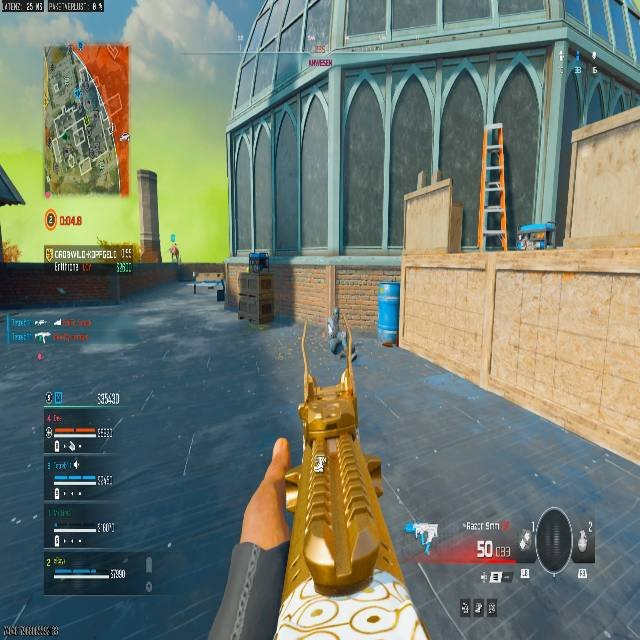player: (168, 241, 179, 262)
